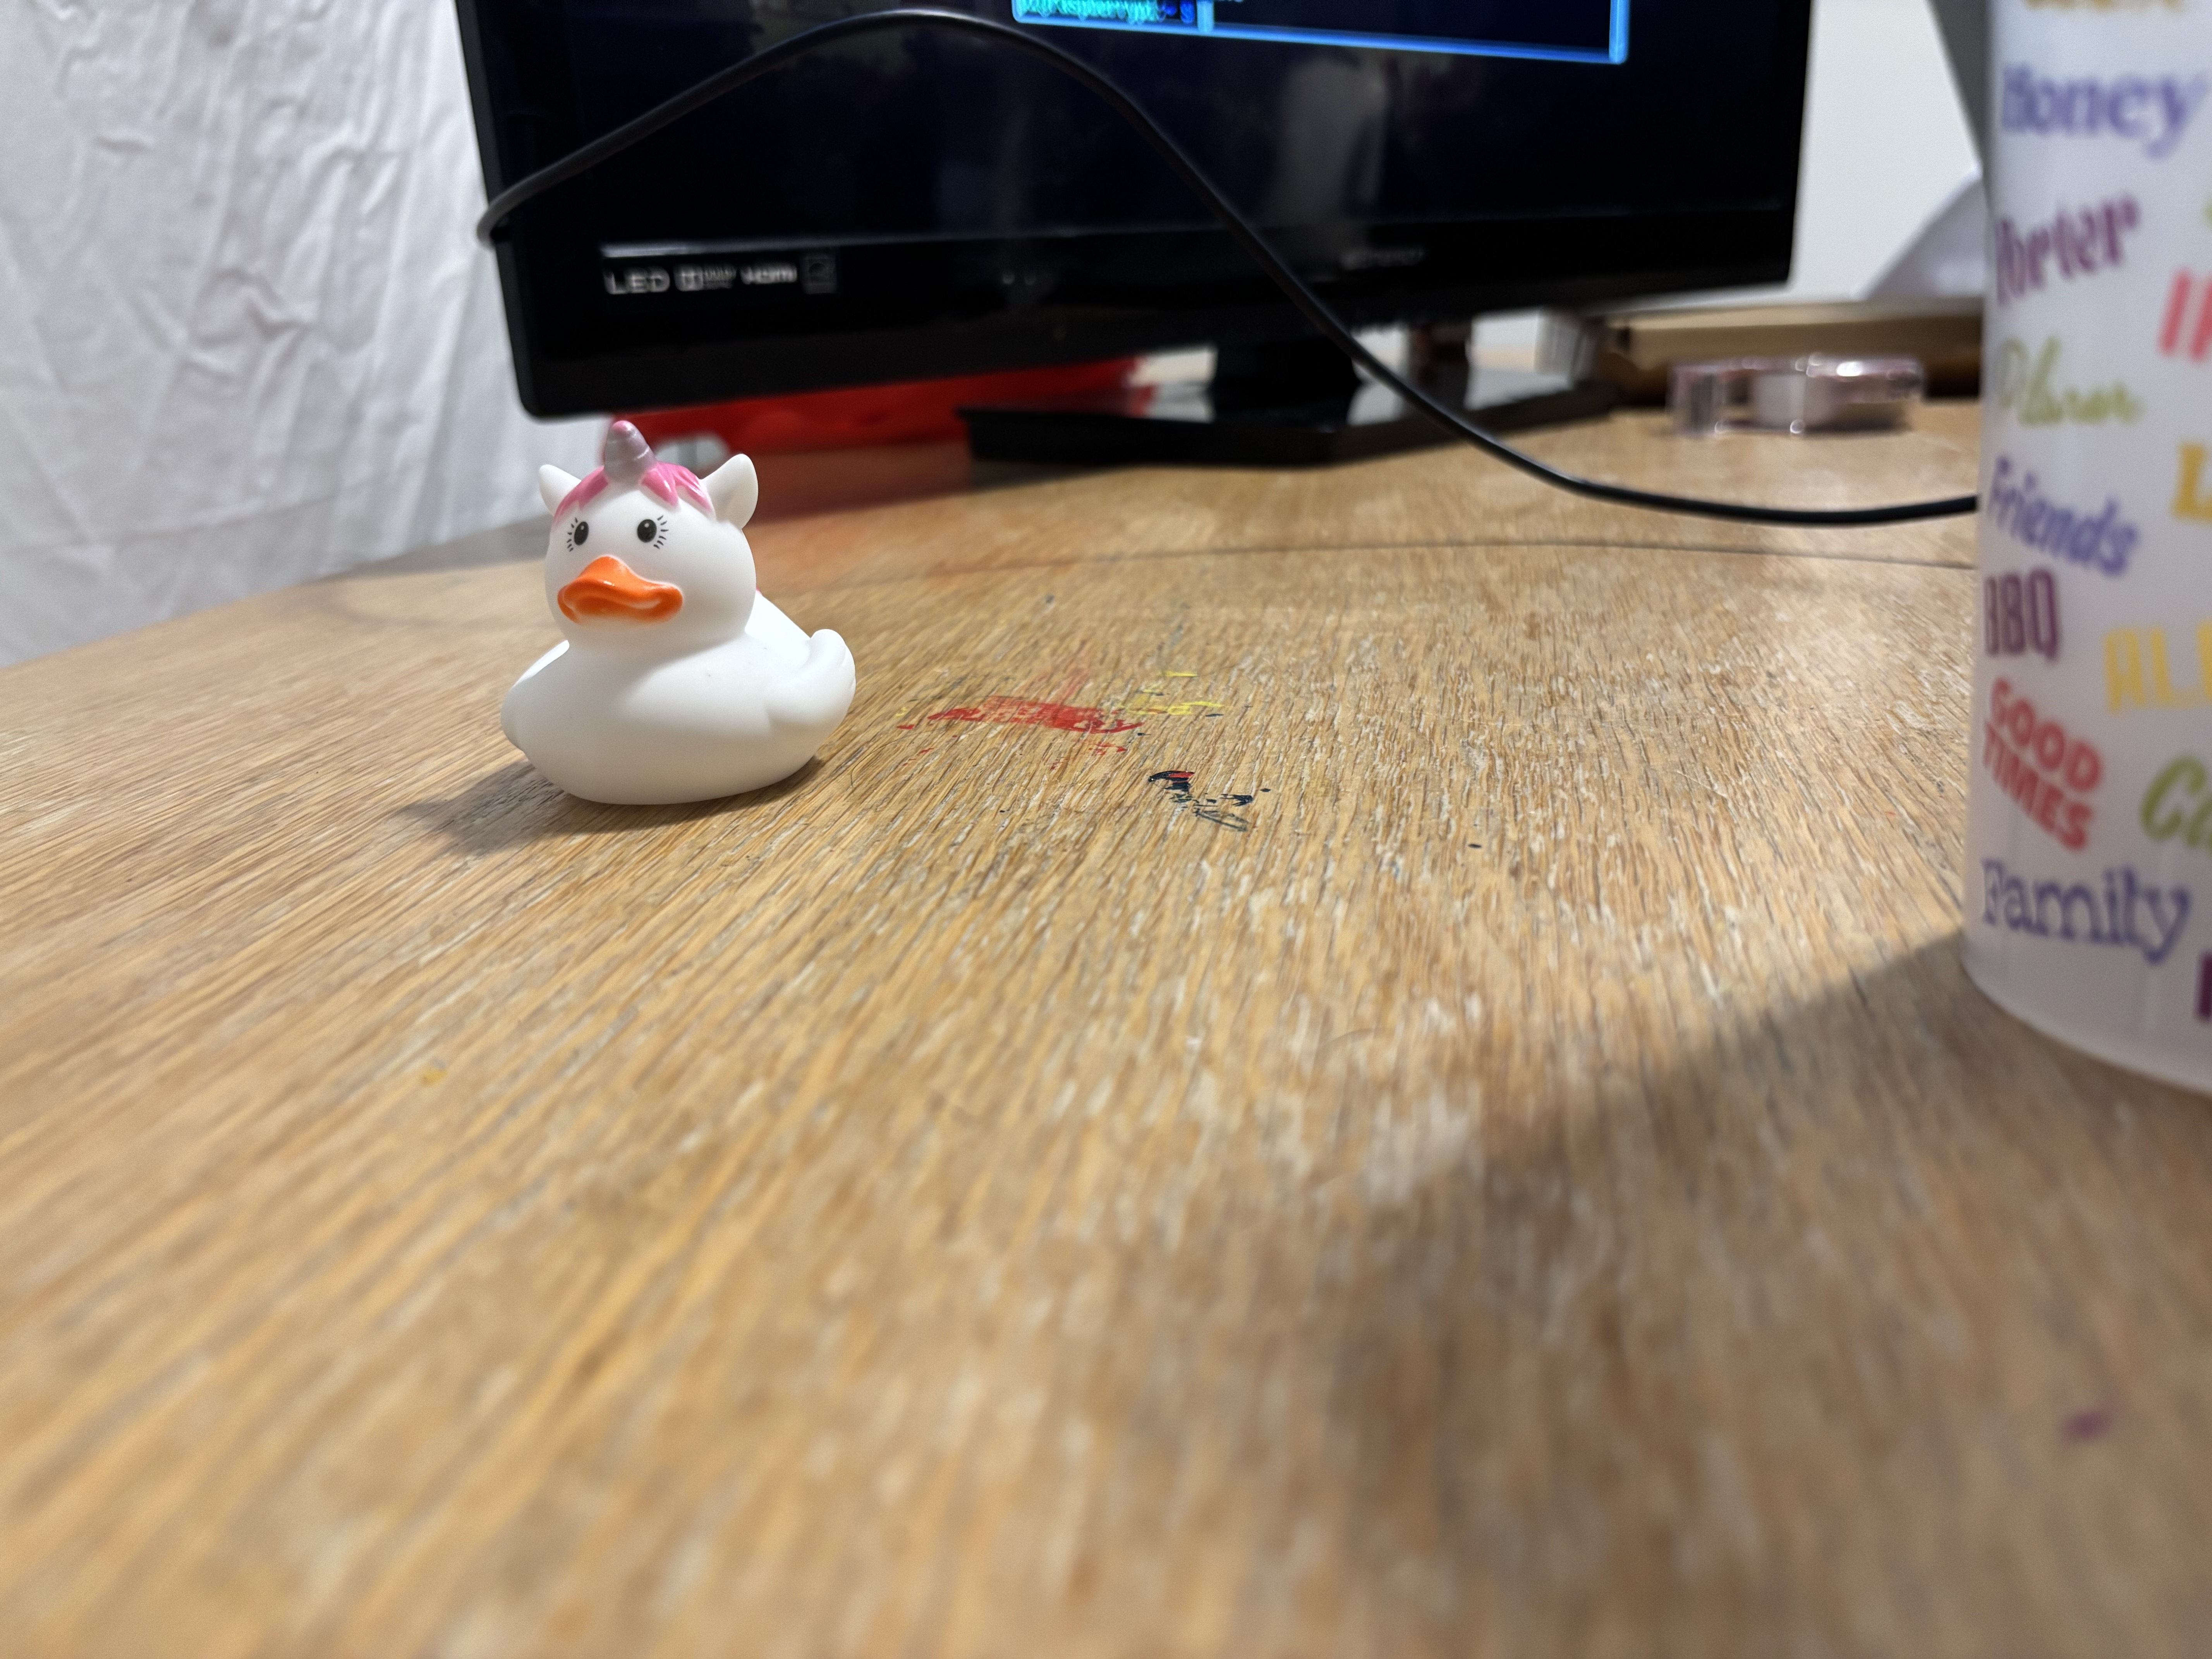Ducks (Specialty): (451, 413, 862, 796)
